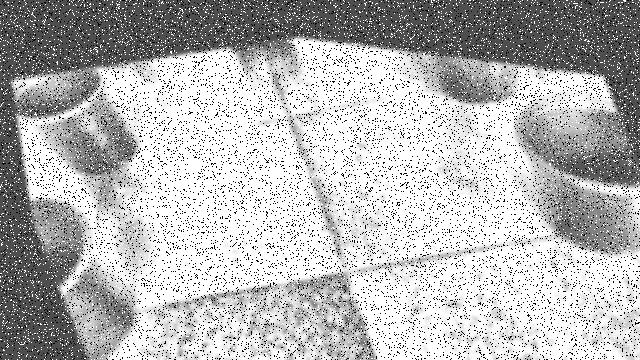pot: (513, 92, 640, 254), (30, 199, 136, 360), (12, 66, 140, 176), (425, 53, 520, 105)
